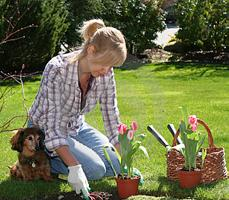person: (26, 19, 129, 199)
